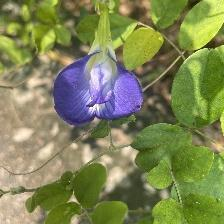shankupushpam: (53, 46, 147, 129)
